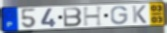4: (41, 7, 59, 28)
5: (21, 8, 37, 30)
B: (62, 7, 84, 28)
G: (110, 5, 129, 25)
H: (82, 6, 104, 27)
K: (132, 5, 148, 24)
